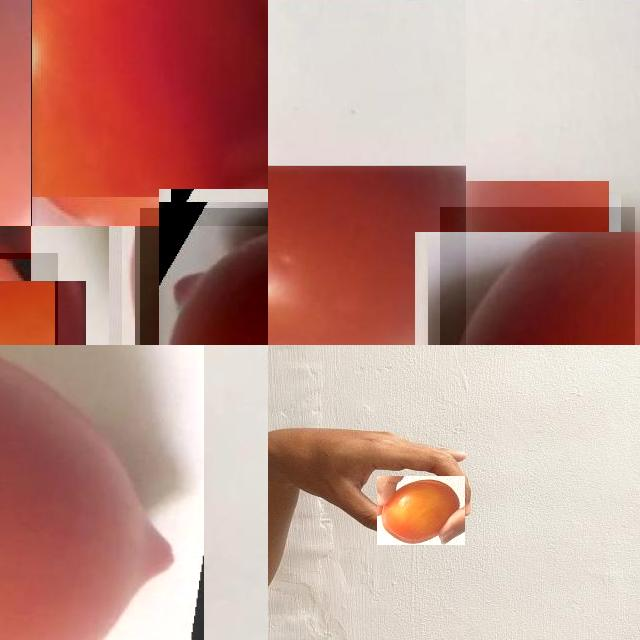0: (31, 0, 268, 226)
Fresh Tomato: (0, 345, 204, 640), (268, 165, 466, 345), (440, 206, 634, 345), (377, 476, 465, 545)
